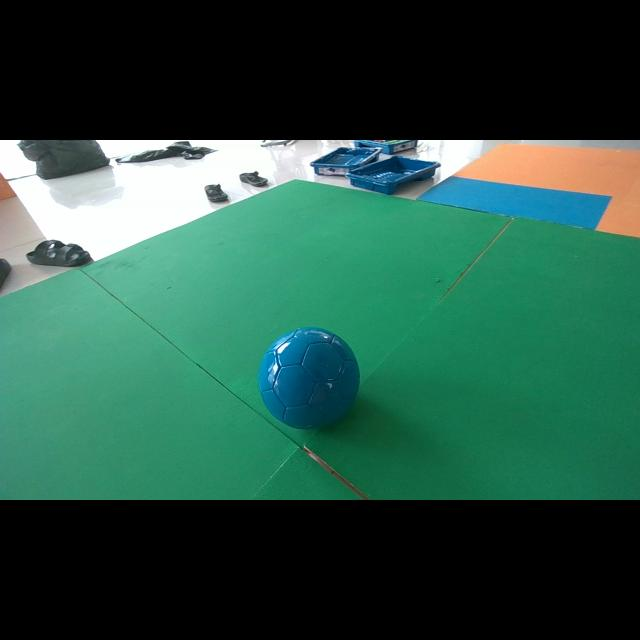B: (258, 326, 360, 429)
